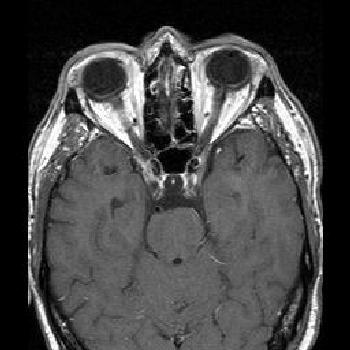Normal_Brain: (4, 10, 350, 350)
